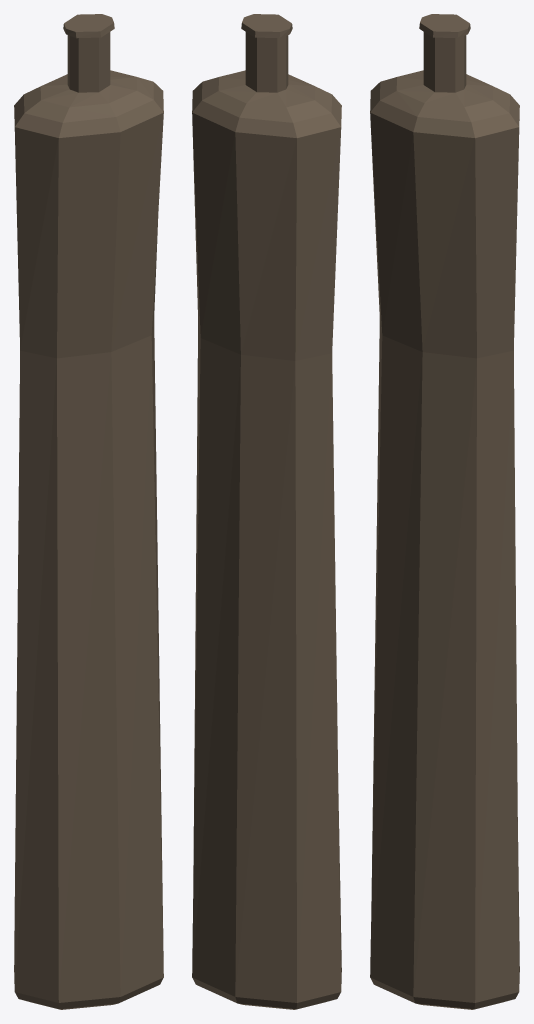
File: sandbag.obj
The picture shows the model from 3 angles, left to right: view 1: azimuth 30°, elevation 25°; view 2: azimuth 150°, elevation 25°; view 3: azimuth 330°, elevation 25°; orthographic projection.
Visible parts, largest first — view 1: product-27b554e0-7374-44e7-abc2-9ea58fc740ff-body; view 2: product-27b554e0-7374-44e7-abc2-9ea58fc740ff-body; view 3: product-27b554e0-7374-44e7-abc2-9ea58fc740ff-body.
Boxes of the visible parts, x1,y1,x2,y2 form: product-27b554e0-7374-44e7-abc2-9ea58fc740ff-body: [14, 14, 163, 1009]; product-27b554e0-7374-44e7-abc2-9ea58fc740ff-body: [192, 14, 341, 1009]; product-27b554e0-7374-44e7-abc2-9ea58fc740ff-body: [370, 14, 519, 1009].
Bounding box in the file's own units: 0.03 × 0.1862 × 0.0221.
